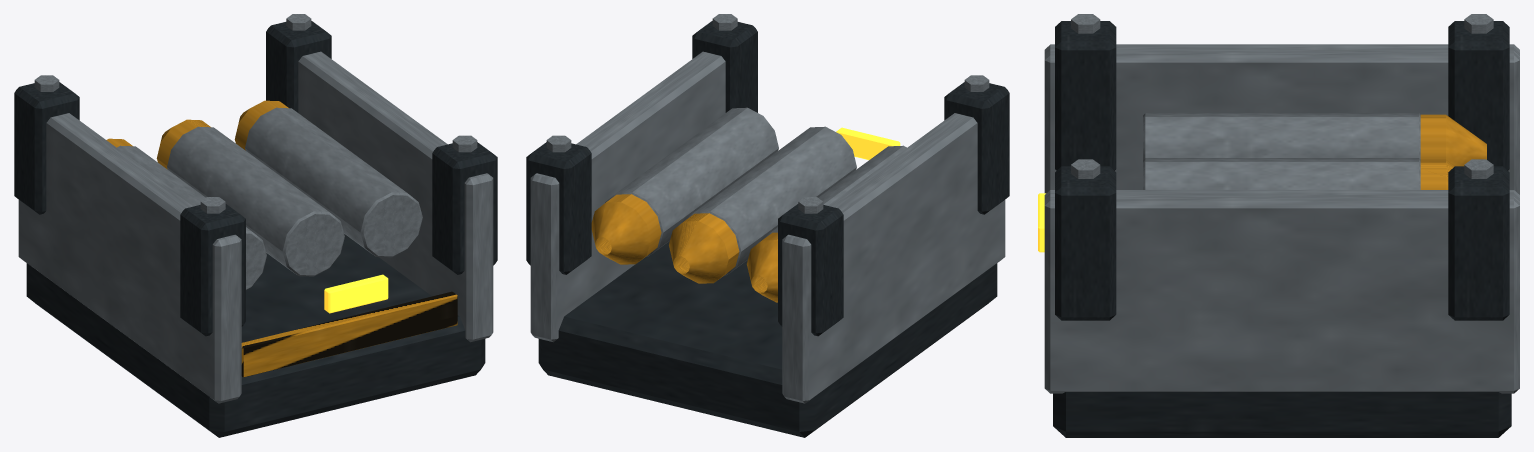
File: ammo.glb
3 views of the same model, side by side, from view 1: azimuth 30°, elevation 25°; view 2: azimuth 150°, elevation 25°; view 3: azimuth 270°, elevation 25° (orthographic). The views are drawn at different scales.
Parts seen in each view (by area): view 1: ammo_mesh; view 2: ammo_mesh; view 3: ammo_mesh.
Boxes of the visible parts, <box> form: ammo_mesh: <box>14,14,497,437</box>; ammo_mesh: <box>526,14,1009,437</box>; ammo_mesh: <box>1038,14,1519,437</box>.
Bounding box in the file's own units: 0.495 × 0.366 × 0.588.
2 materials, 1 textured.
